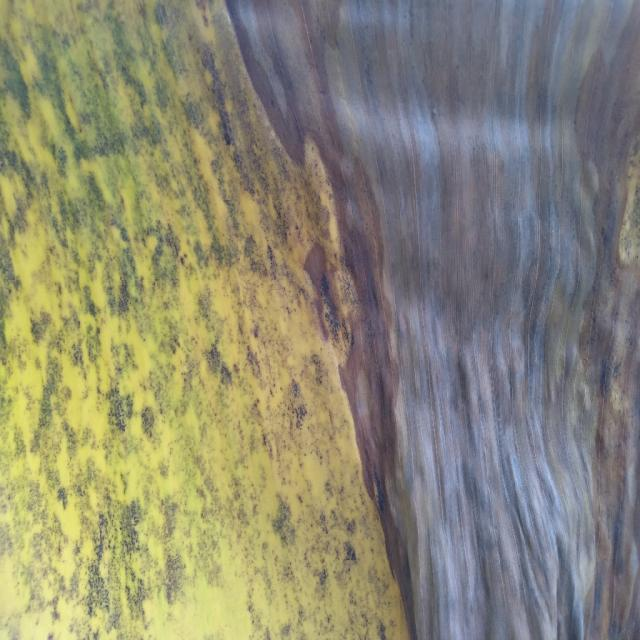Early_rust: (0, 0, 483, 640)
